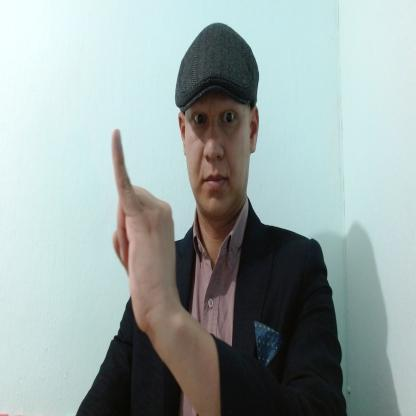I: (110, 126, 176, 336)
